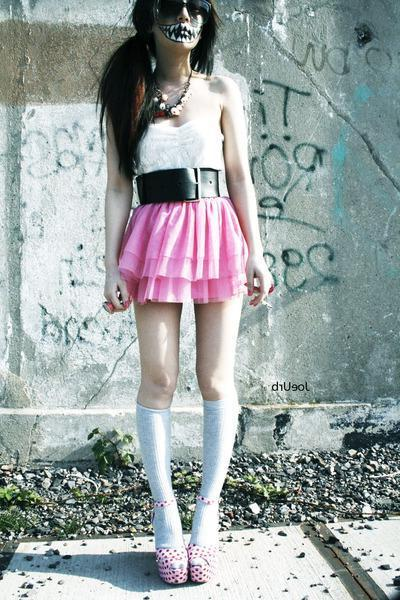skirt: (108, 196, 258, 313)
vest: (119, 93, 231, 185)
